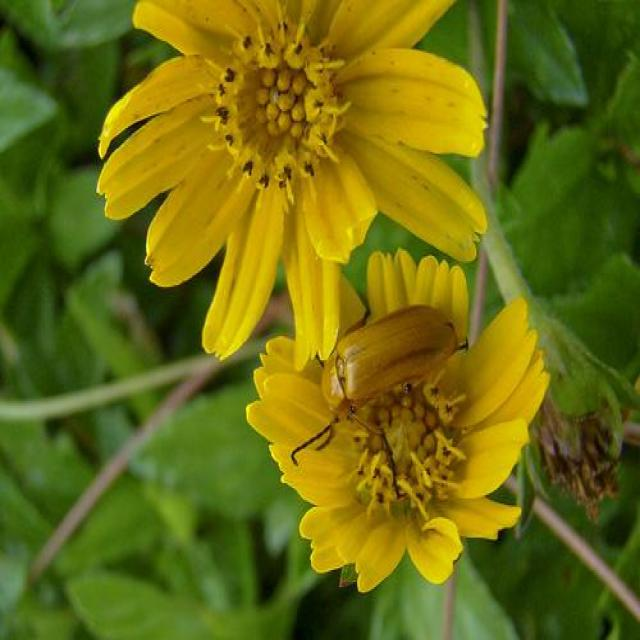BlisterBeetle-Adult-: (293, 290, 477, 450)
